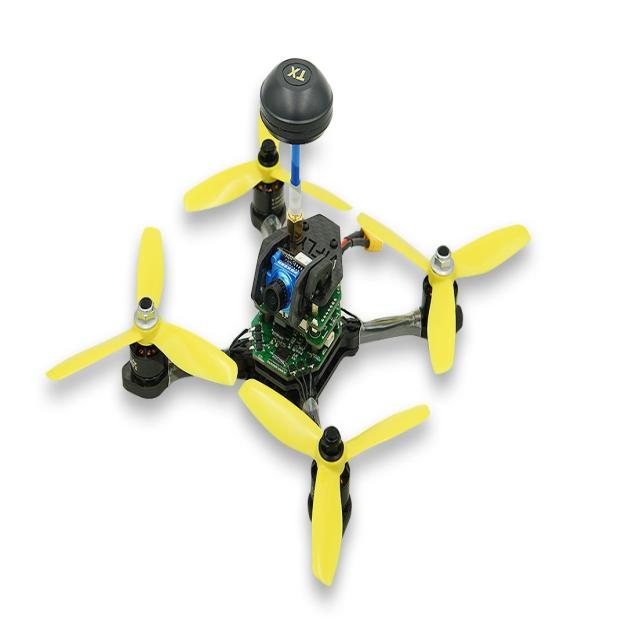drone: (86, 49, 538, 546)
